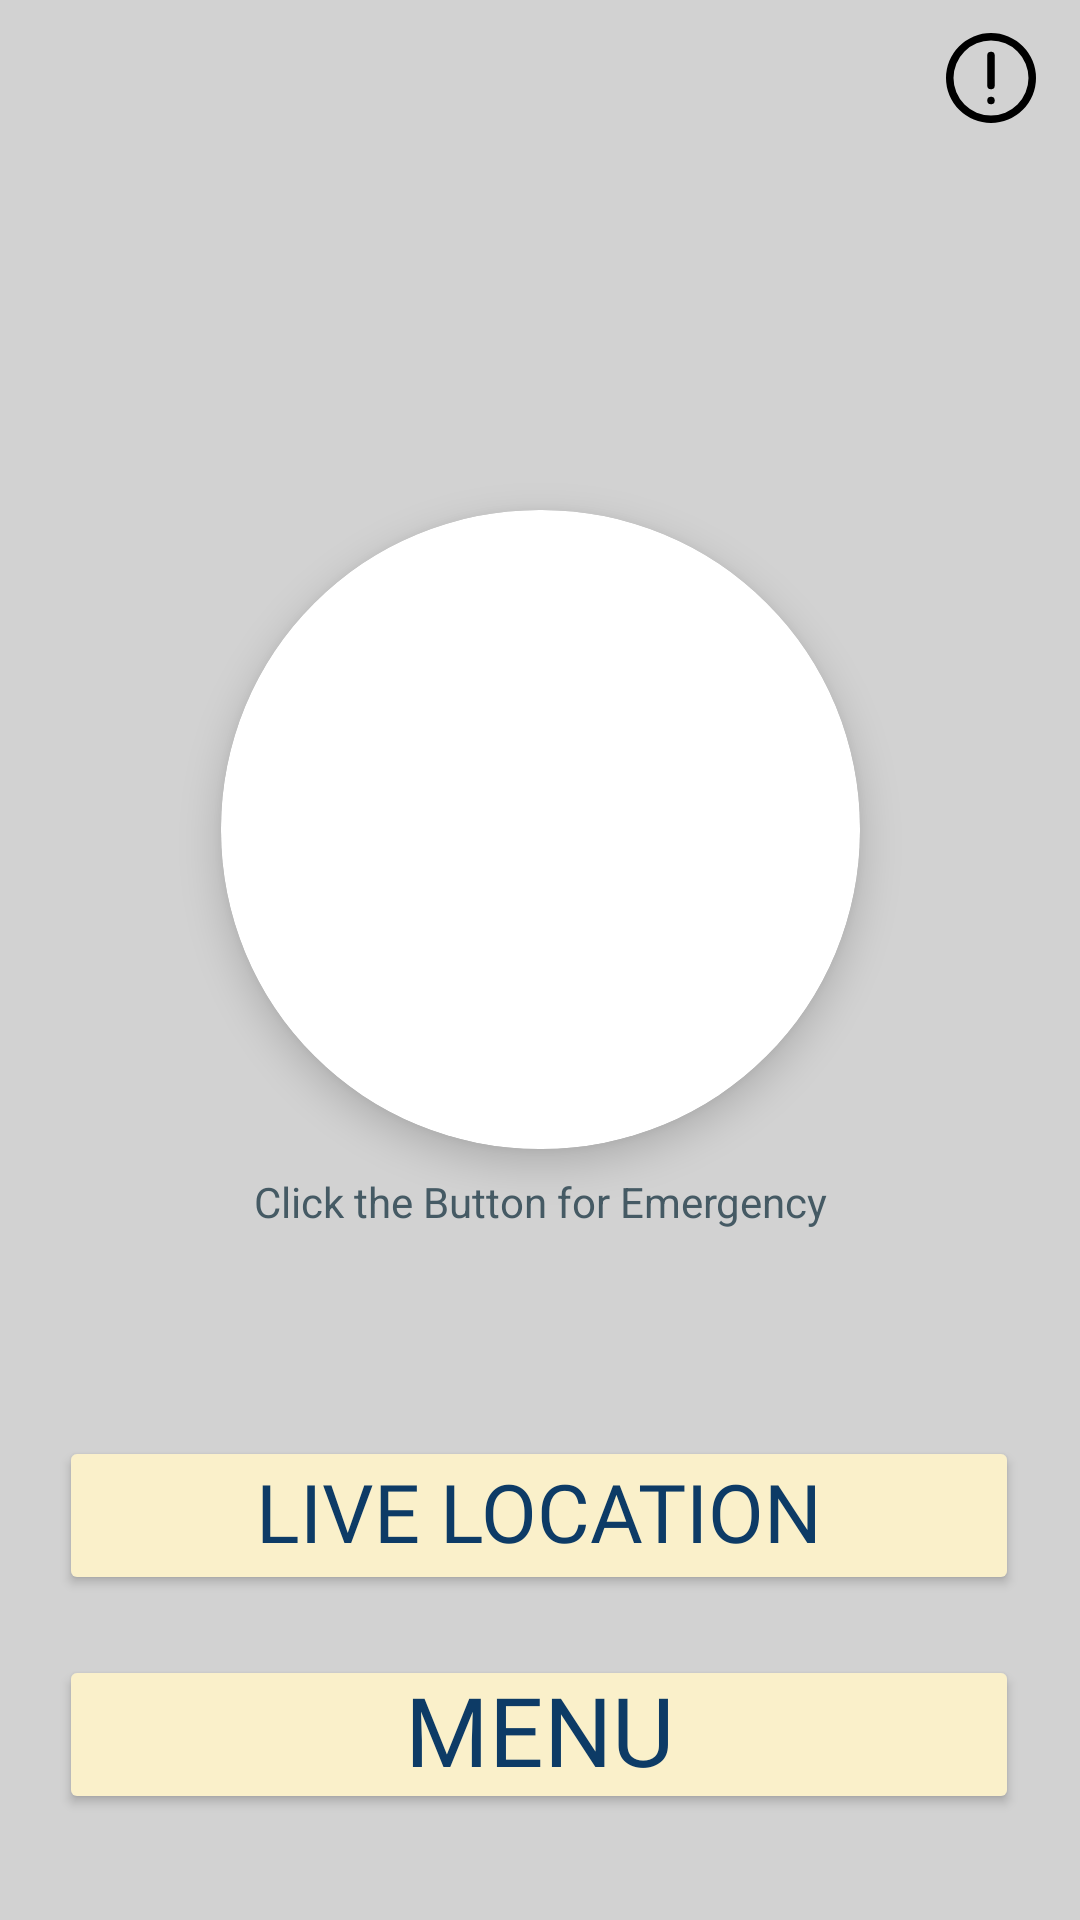

Icon click points for this 1080x1920 phone screenshot, format [x,y]:
exclamation home: [991,78]
